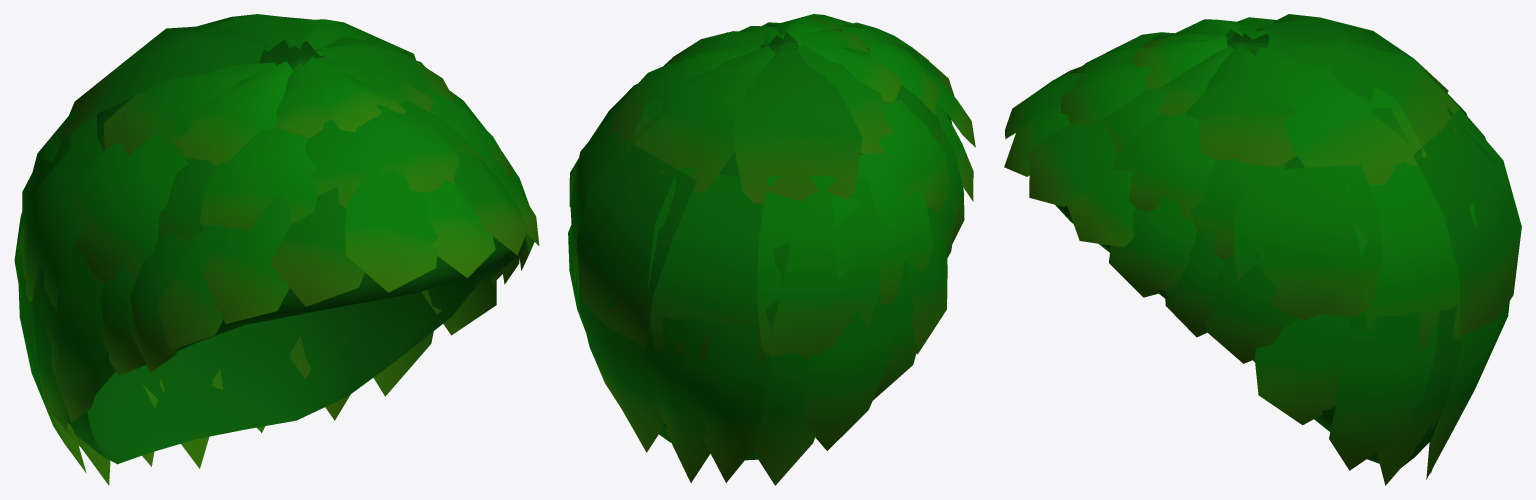
Rendered from crop.glb.
3 views of the same model, side by side, from view 1: azimuth 30°, elevation 25°; view 2: azimuth 150°, elevation 25°; view 3: azimuth 270°, elevation 25° (orthographic). The views are drawn at different scales.
Visible parts, largest first — view 1: hair_crop; view 2: hair_crop; view 3: hair_crop.
Boxes of the visible parts, bbox=[...] form: hair_crop: bbox=[14, 14, 539, 485]; hair_crop: bbox=[568, 14, 975, 485]; hair_crop: bbox=[1004, 14, 1521, 485].
Size of the model in its own units: 0.1766 by 0.1957 by 0.2108.
